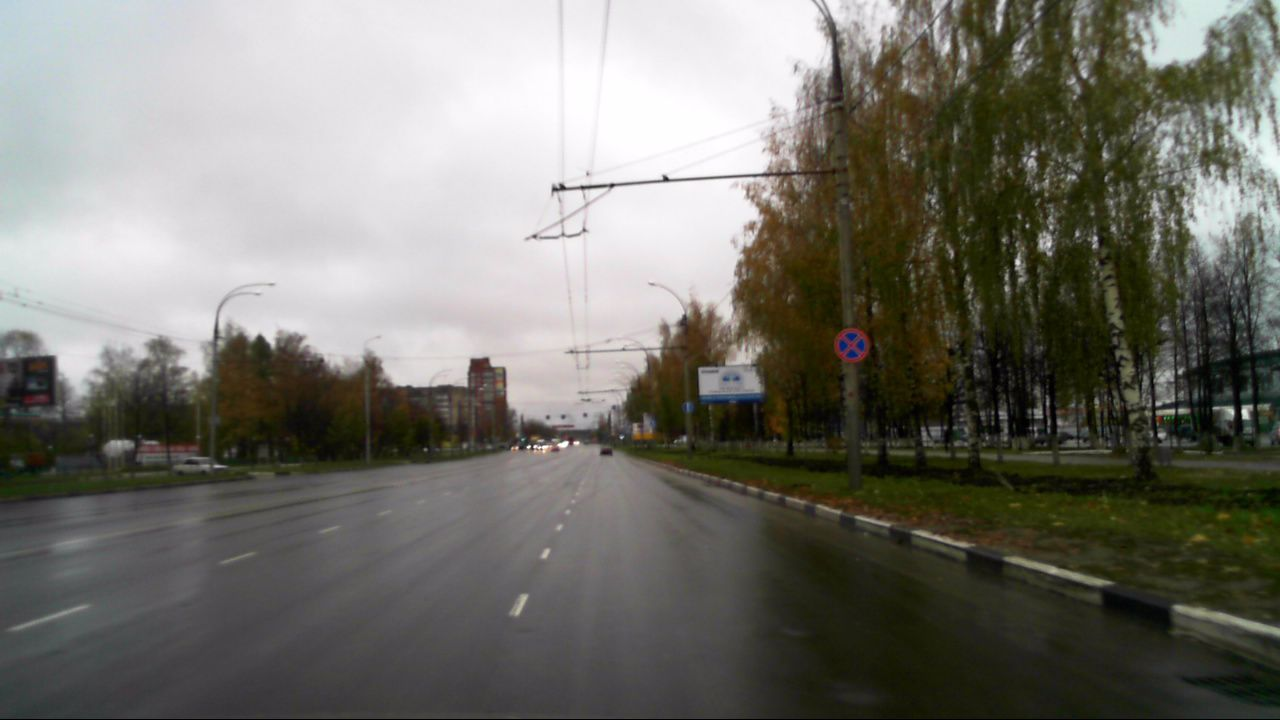No Parking: (832, 328, 869, 364)
